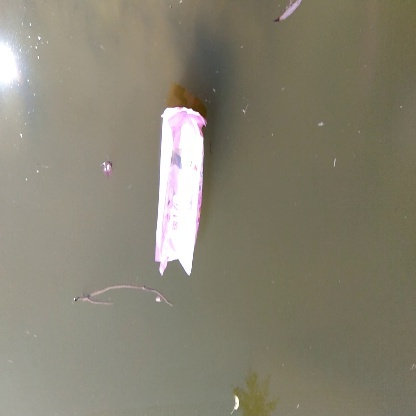plastic-bag: (151, 104, 212, 281)
